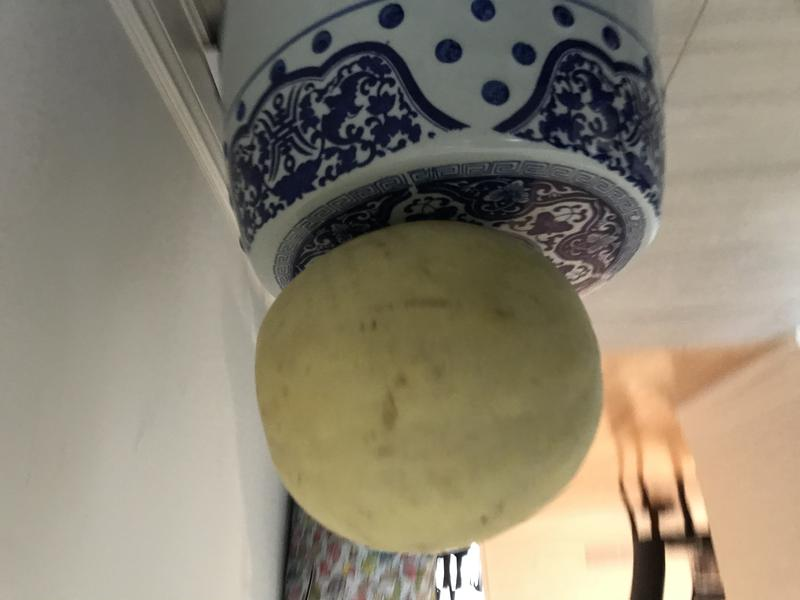honeydew: (241, 213, 614, 569)
